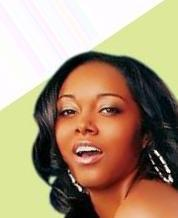face: (58, 94, 120, 167)
